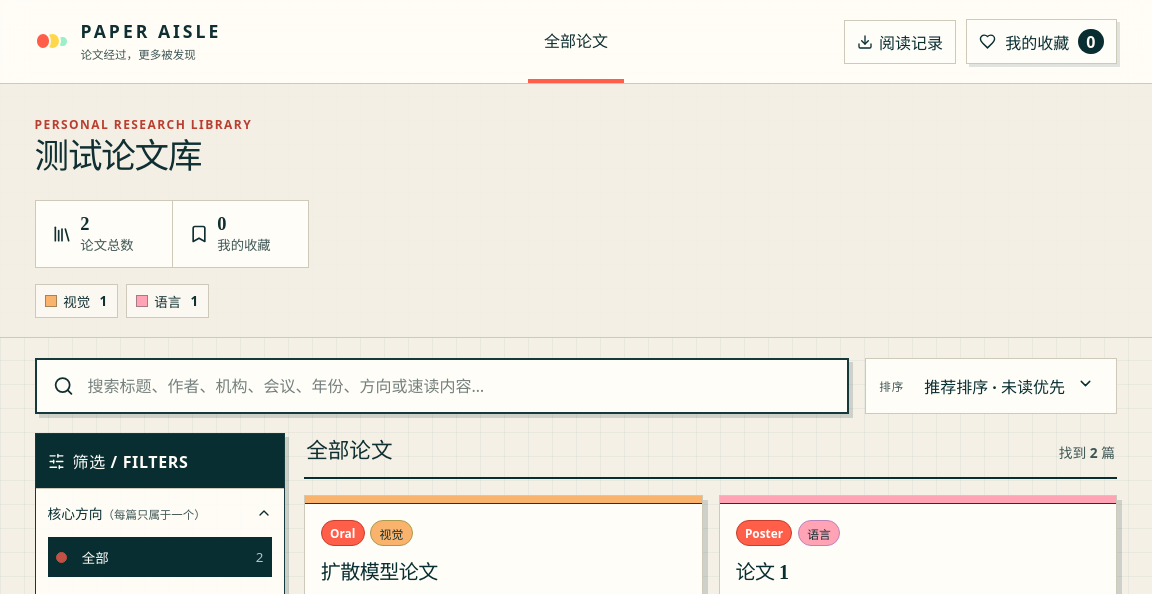
Test case: Paper Aisle app › searches, opens the drawer, favorites, and closes with Escape
The width and height of the screenshot is (1152, 594).
Expected: the heading "测试论文库" is shown, [34,138,201,176]
Type "扩散" into the search field named "搜索论文" at [458, 386], box [86,374,831,398]
(page scrolled)
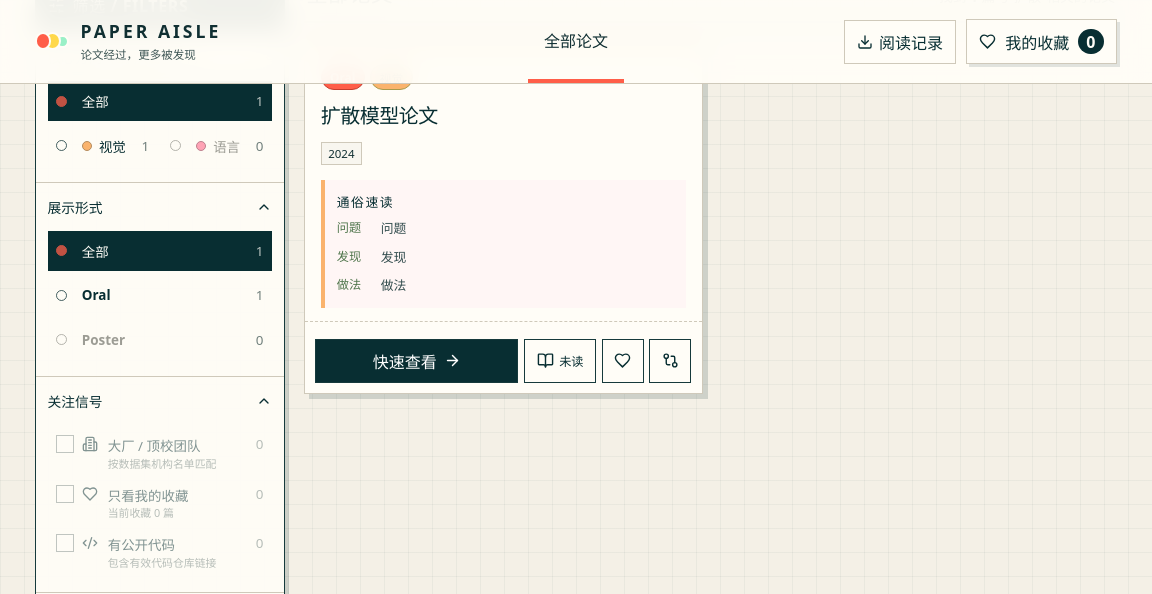
Now the number of buttons "快速查看" is 1
Click the button "快速查看" at [417, 361], box [315,339,518,383]
(page scrolled)
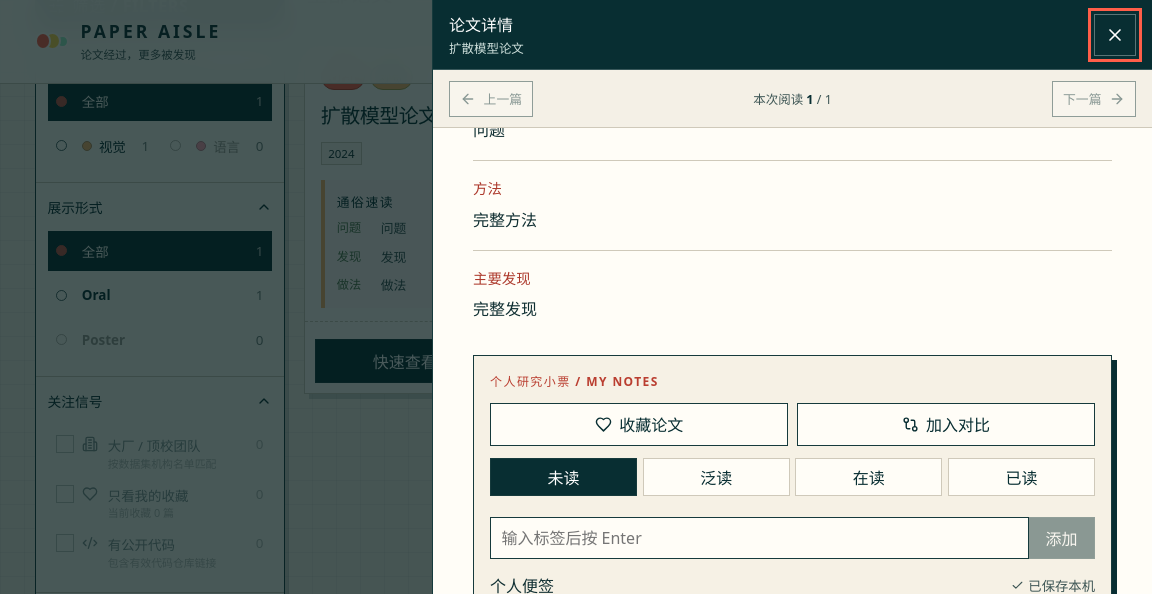
Click the button "收藏论文" at [639, 424], box [490,402,788,446]
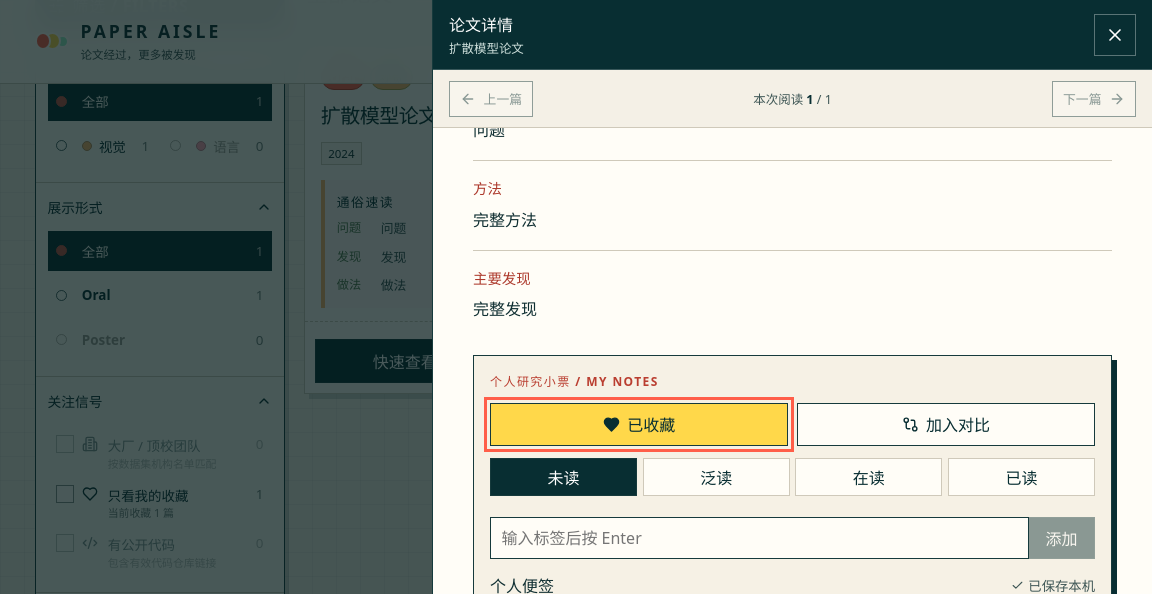
Now the button "已收藏" is shown, box [490,402,788,446]
Press Escape
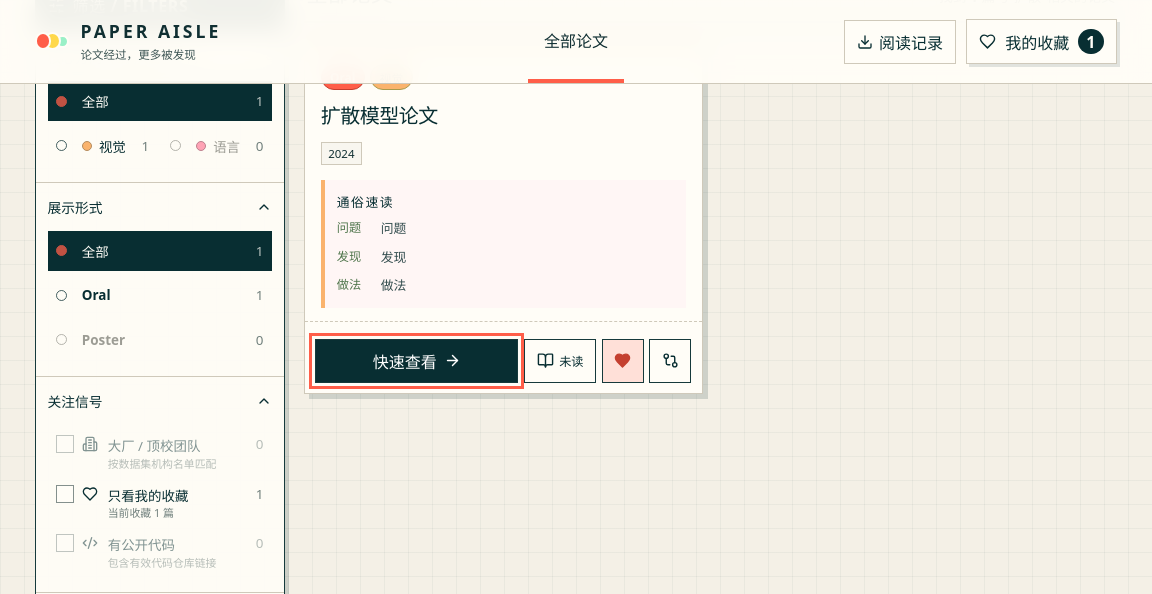
Now the heading "论文详情" is gone
